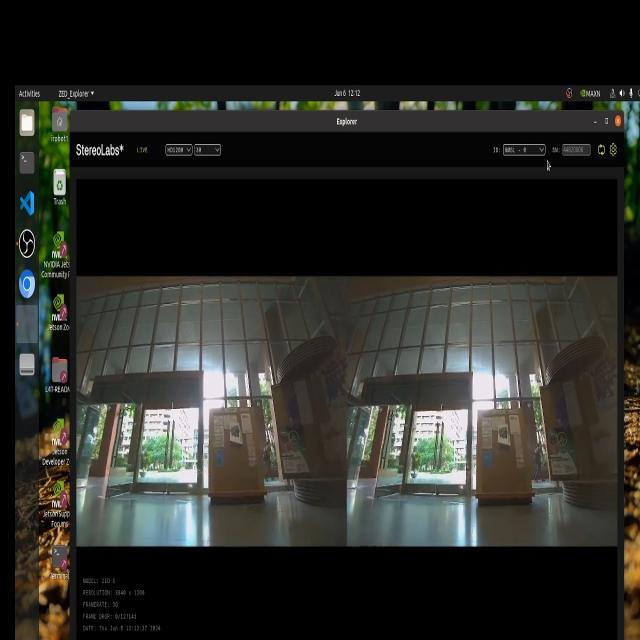green: (492, 419, 510, 453), (224, 420, 242, 444)
